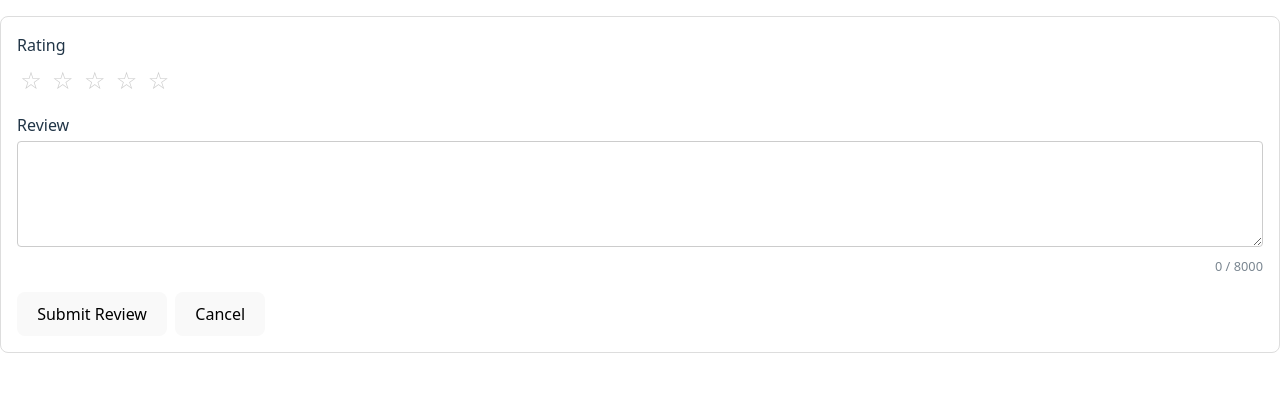
Test case: ReviewForm › shows validation error when text is empty
What coordinates should you click on to do the following:
click the button named "1 star"
I would click on:
 (31, 79)
Its box is [17, 61, 45, 97].
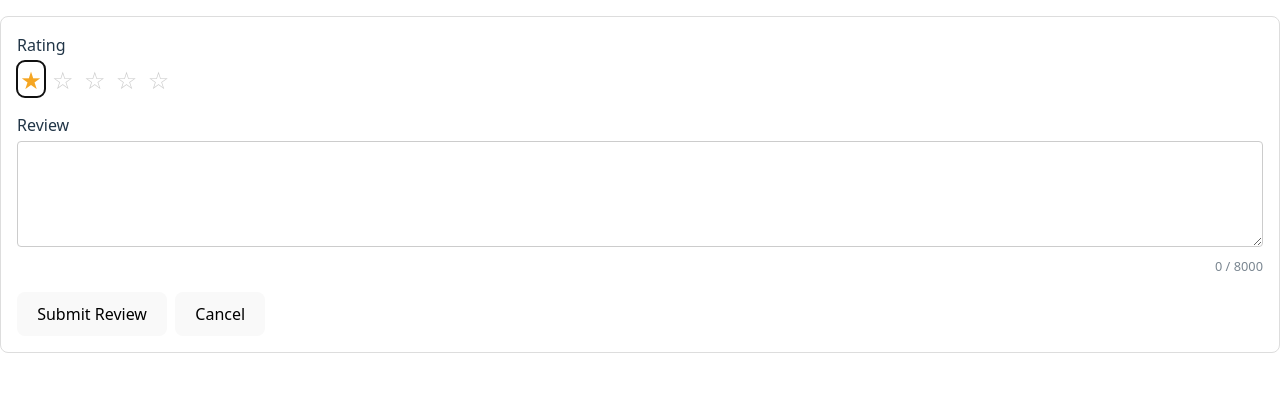
What coordinates should you click on to do the following:
click the button "Submit Review"
I would click on:
 (92, 314)
Its box is [17, 292, 167, 336].
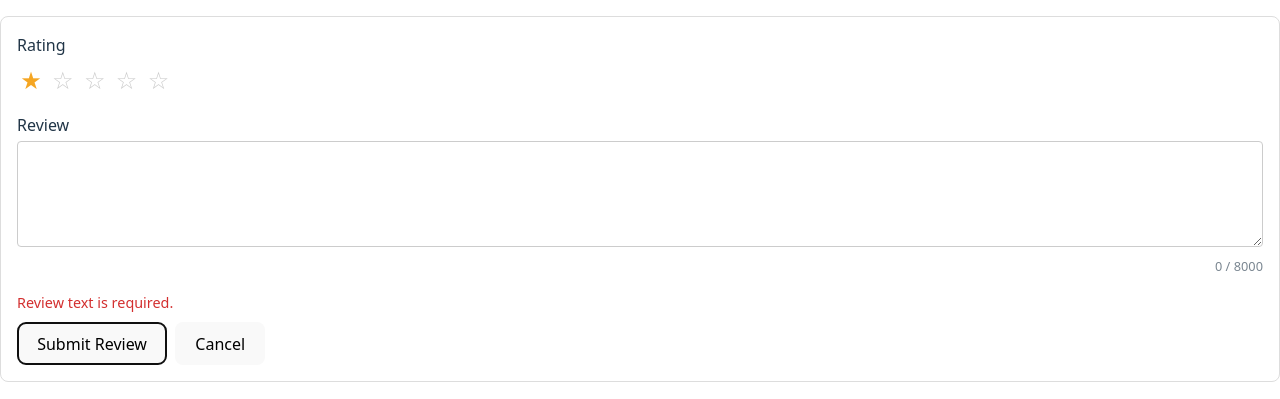
Expected: the message shows "Review text is required", [17, 293, 173, 312]
